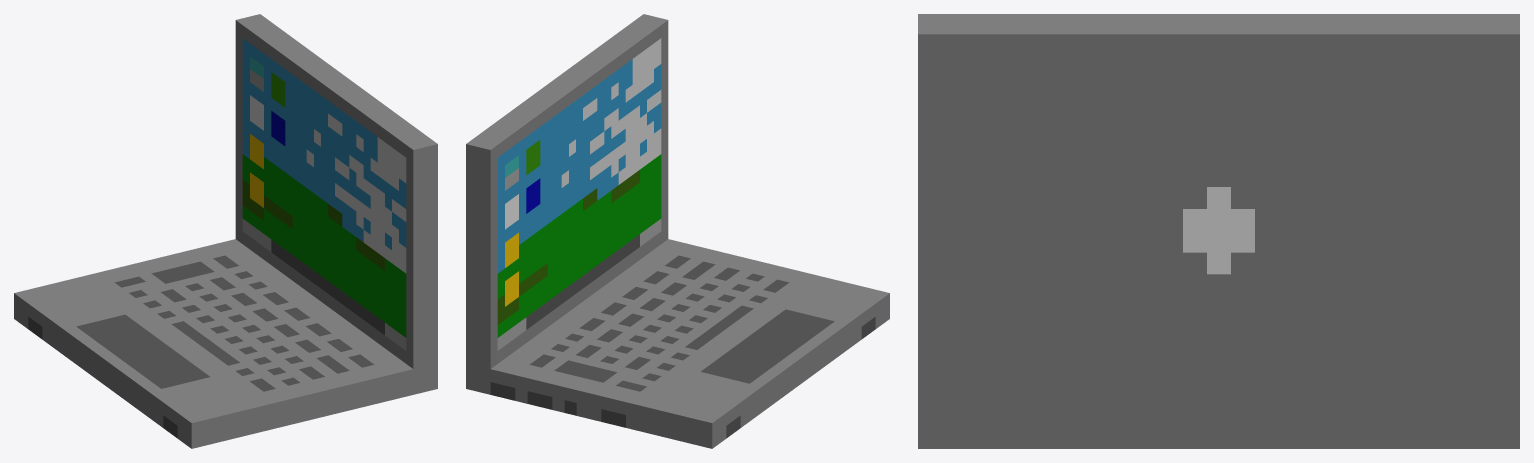
Rendered from Voxel Universe-42-Computer Laptop.obj.
3 views of the same model, side by side, from view 1: azimuth 30°, elevation 25°; view 2: azimuth 150°, elevation 25°; view 3: azimuth 270°, elevation 25° (orthographic). The views are drawn at different scales.
Visible parts, largest first — view 1: Computer Laptop; view 2: Computer Laptop; view 3: Computer Laptop.
Boxes of the visible parts, left/top/right/bottom form: Computer Laptop: left=14, top=14, right=437, bottom=448; Computer Laptop: left=466, top=14, right=889, bottom=448; Computer Laptop: left=918, top=14, right=1519, bottom=448.
Size of the model in its own units: 2 by 1.9 by 2.5.
Materials: 1 (1 with a texture image).
